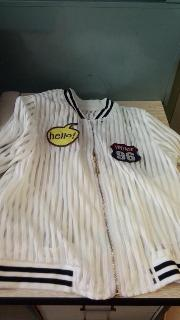long sleeve top: (0, 88, 180, 300)
